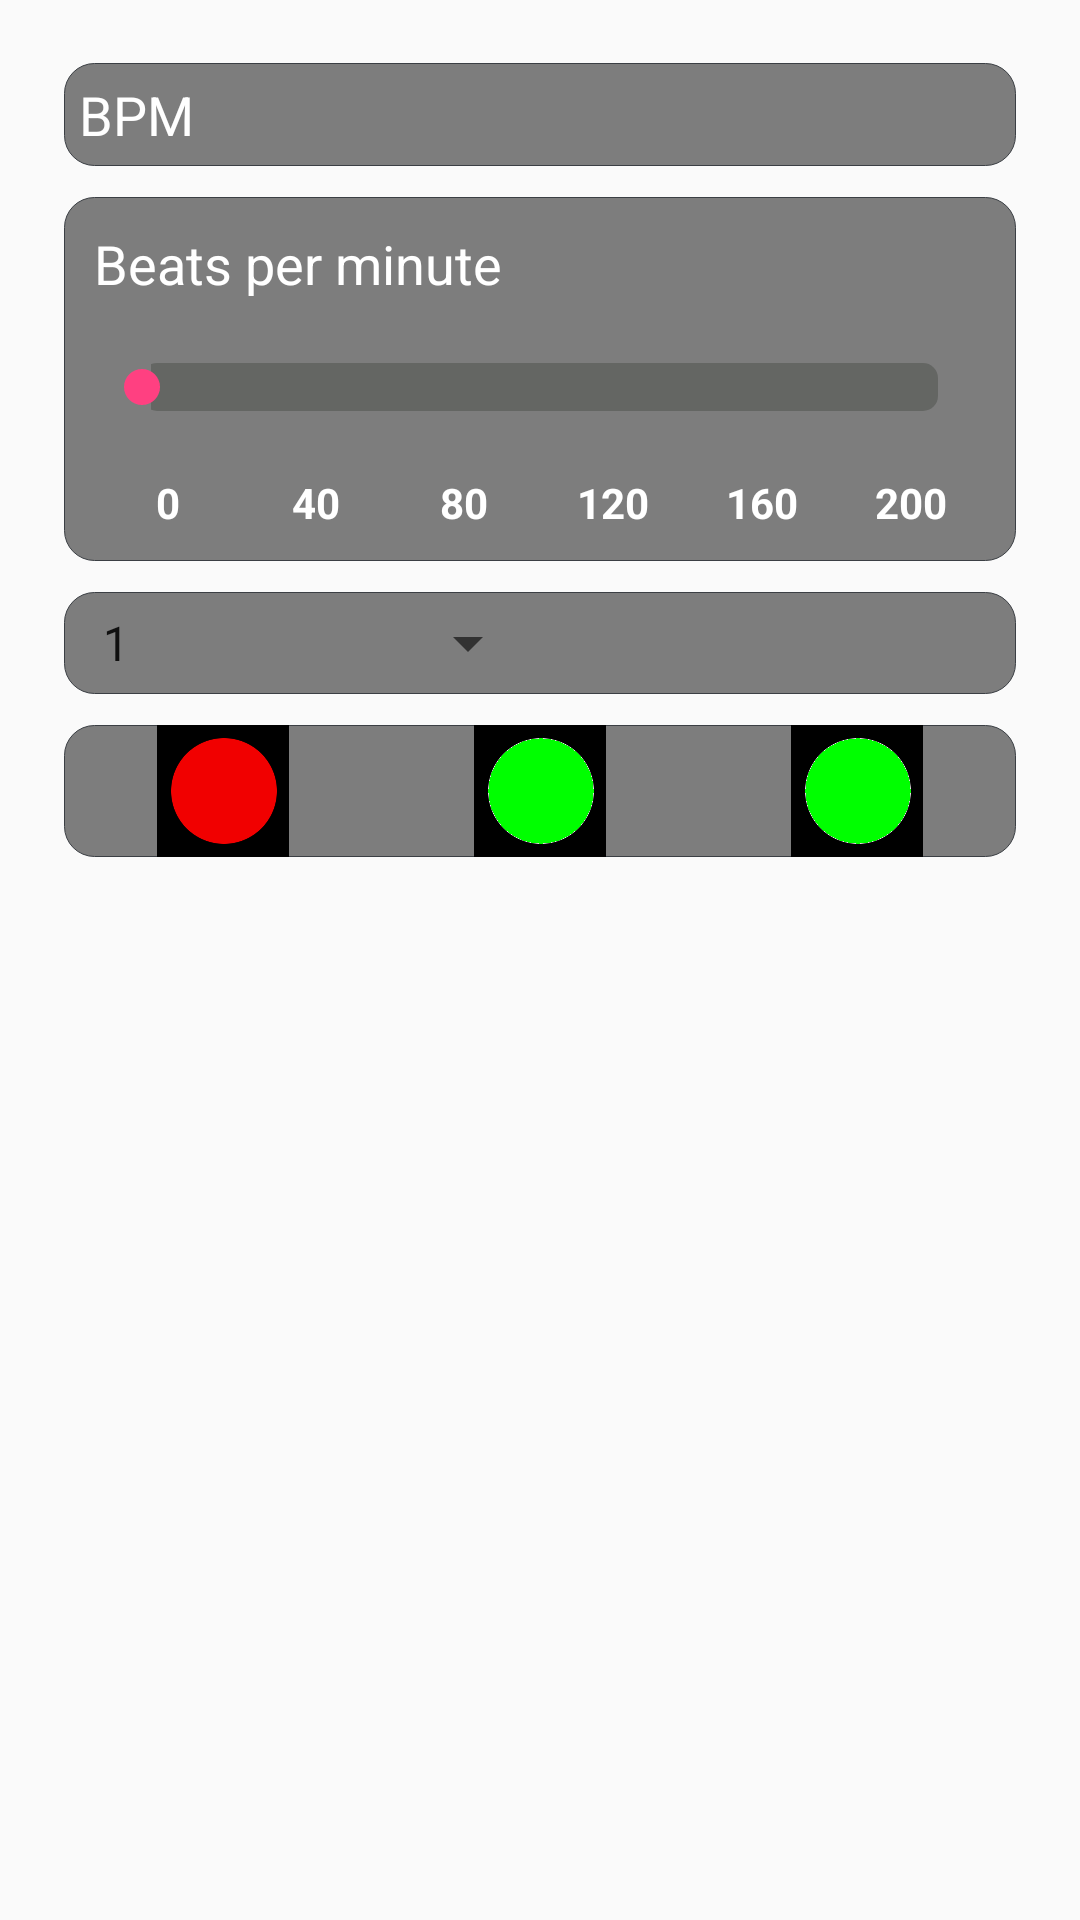

Icon click points for this 1080x1920 phone screenshot, format (x,y):
ledgreenfull: (539,791), (857,791)
ledredfull: (222,791)
